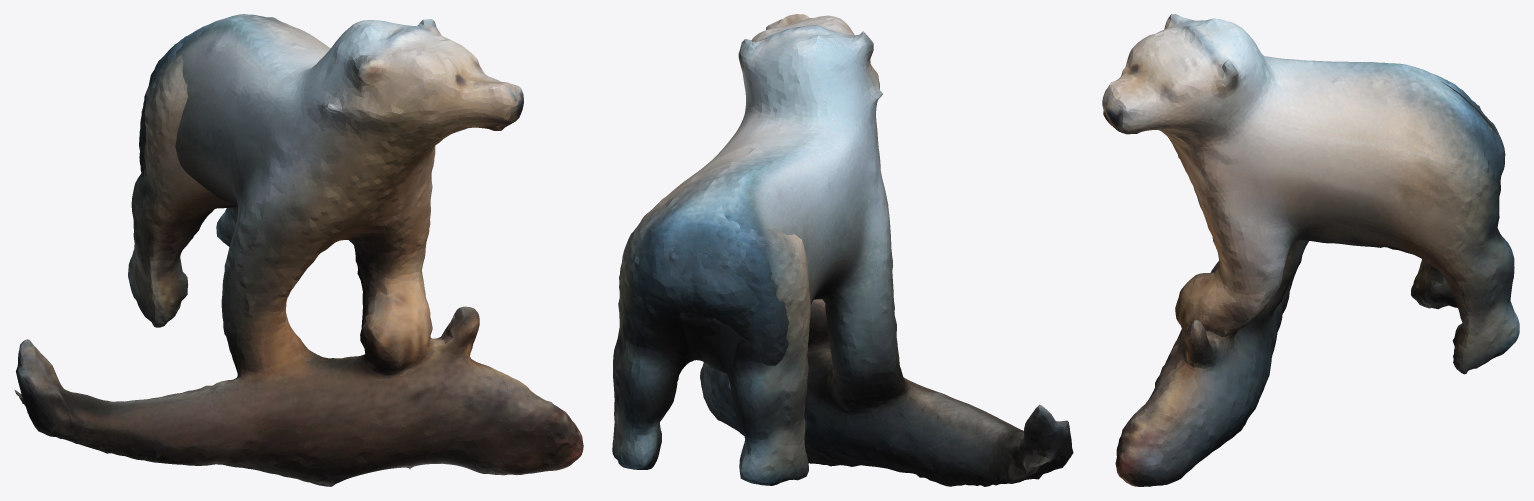
The picture shows the model from 3 angles, left to right: view 1: azimuth 30°, elevation 25°; view 2: azimuth 150°, elevation 25°; view 3: azimuth 270°, elevation 25°; orthographic projection. The views are drawn at different scales.
Parts seen in each view (by area): view 1: Mesh_0.002; view 2: Mesh_0.002; view 3: Mesh_0.002.
Part boxes in pixels (left/top/right/bottom): Mesh_0.002: left=14, top=14, right=583, bottom=486; Mesh_0.002: left=612, top=14, right=1073, bottom=486; Mesh_0.002: left=1102, top=14, right=1519, bottom=486.
Size of the model in its own units: 2.01 by 1.87 by 1.72.
1 material, 1 textured.
